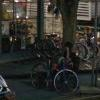Bicycle: (29, 50, 84, 96)
